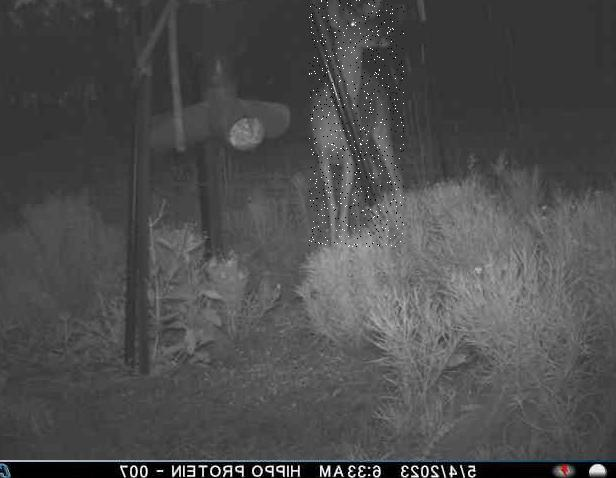Deer: (309, 0, 404, 247)
